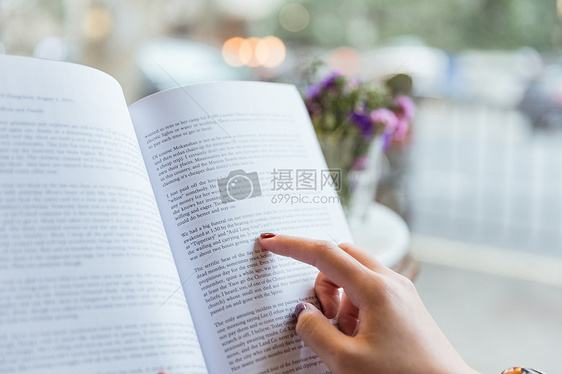book: (1, 49, 488, 374)
